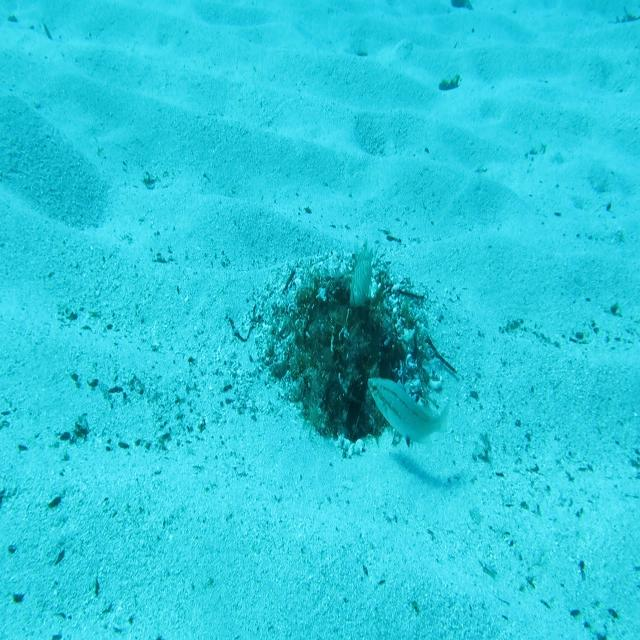NIP_CORE: (348, 236, 376, 312)
core_nest: (325, 294, 370, 351)
female: (366, 375, 451, 452)
nest: (244, 240, 448, 476)
vegetation: (436, 74, 462, 93)
